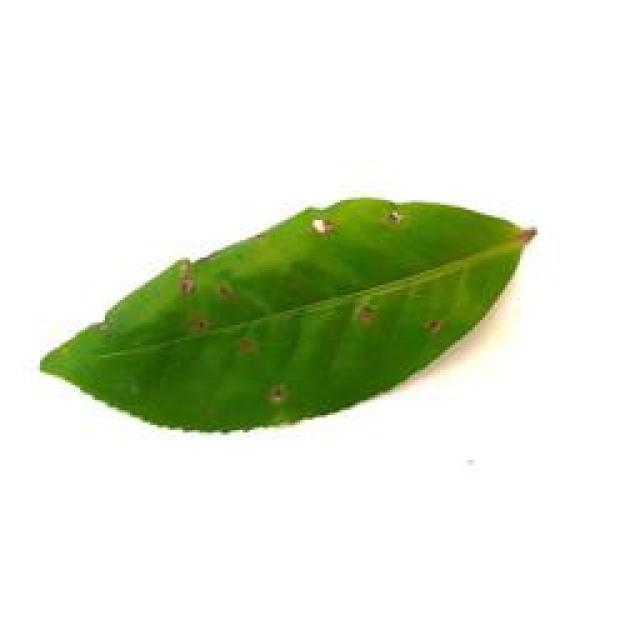Helopeltis: (41, 181, 543, 441)
